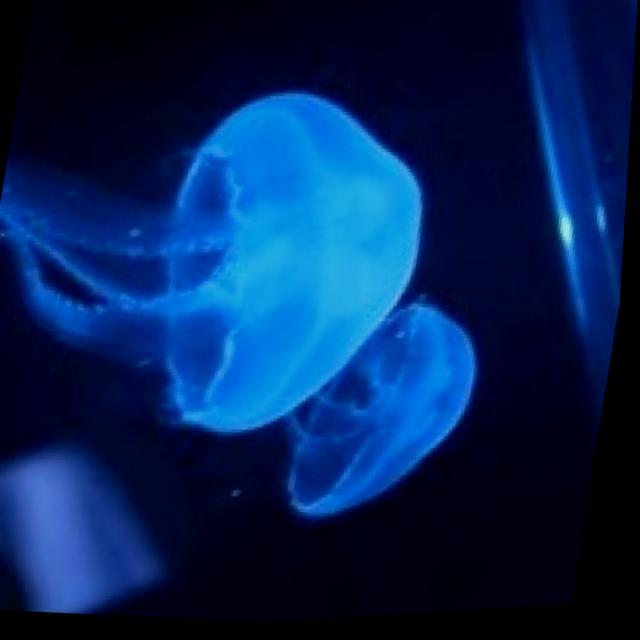Moon-jellyfish: (0, 55, 451, 467)
